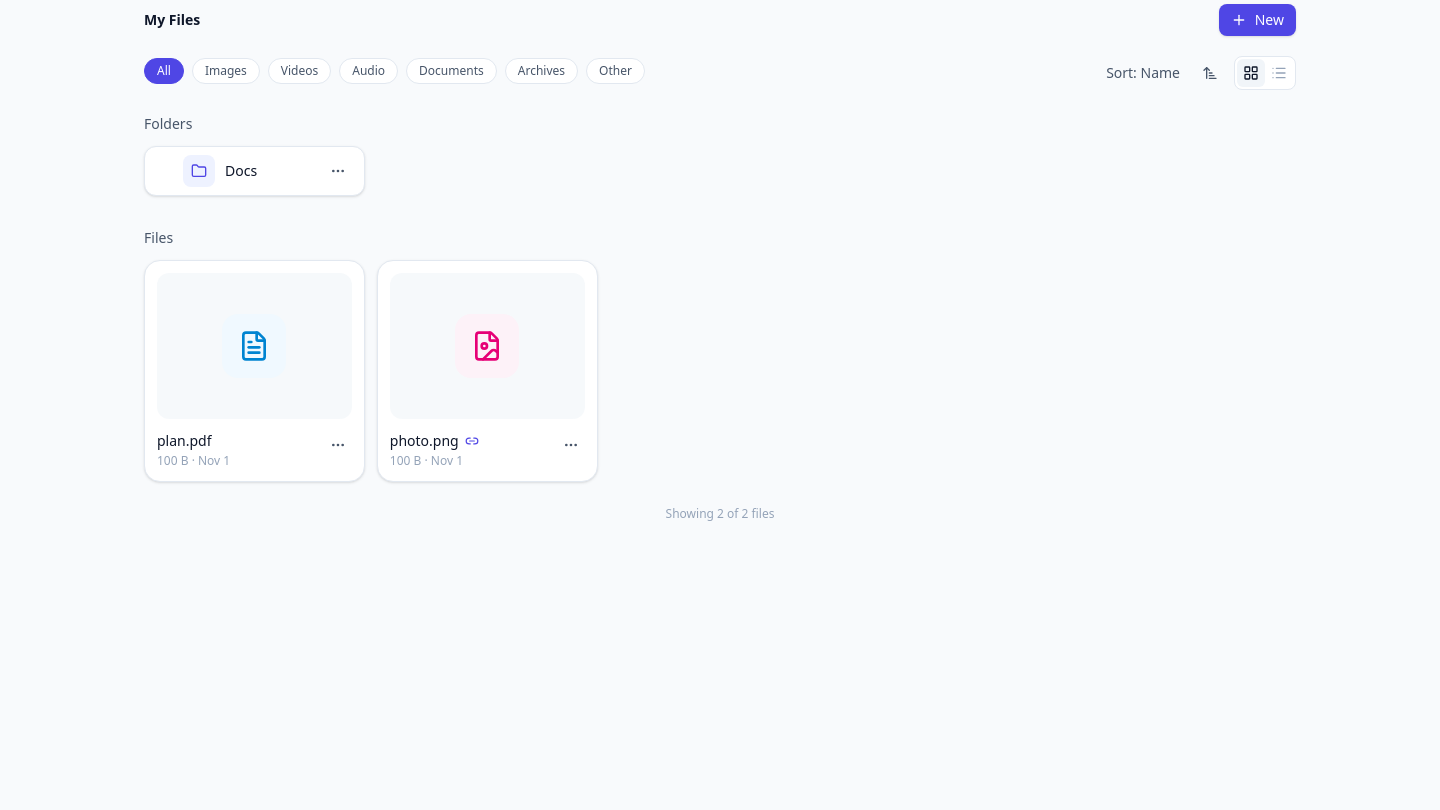
it: share dialog › creates a link with the chosen expiry and shows it once, ready to copy
The width and height of the screenshot is (1440, 810).
Check: the button "plan.pdf" is shown, box [157, 431, 212, 451]
Click the button named "Actions for plan.pdf" at (338,445), box [324, 431, 352, 459]
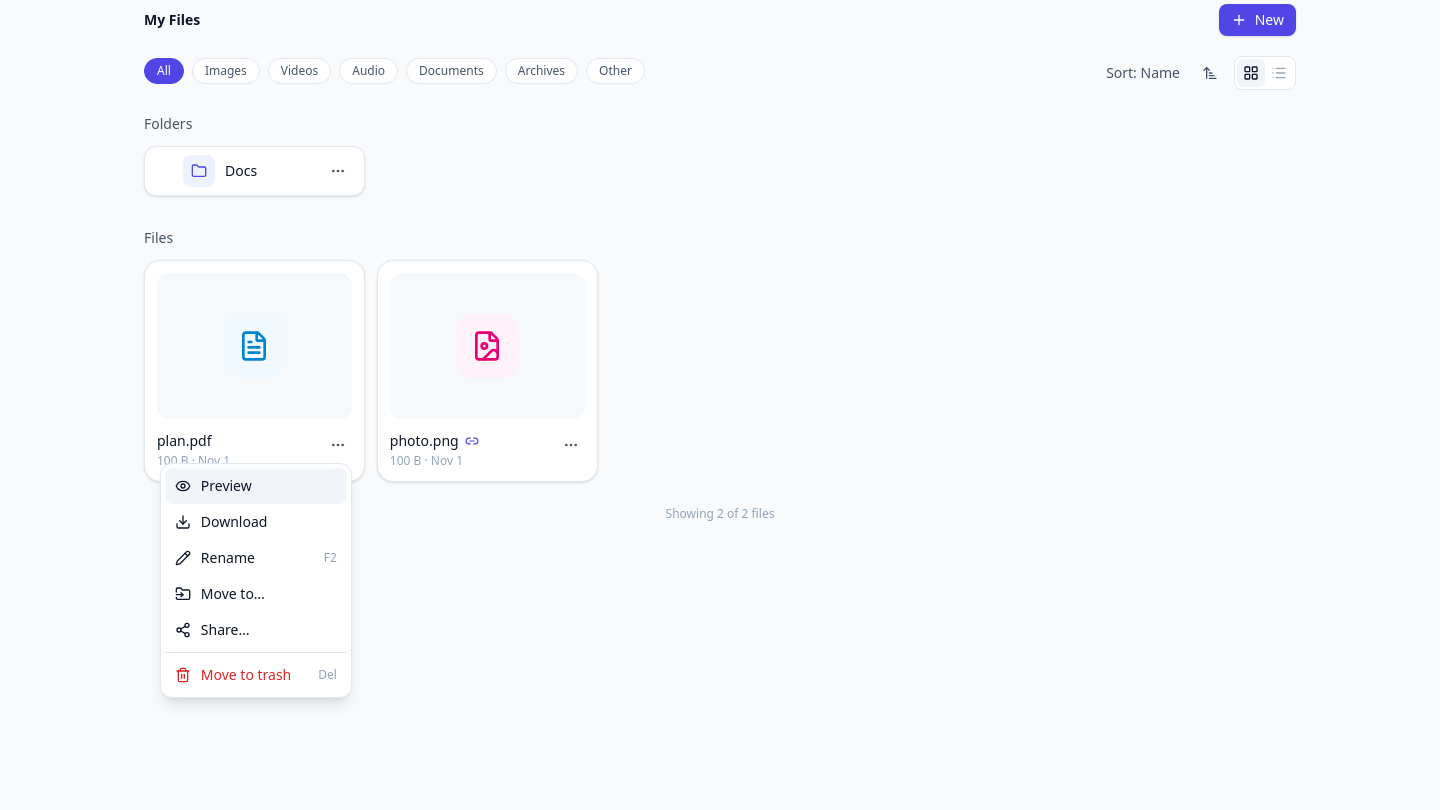
Click the menu item "Share…" at (256,630), box [165, 612, 347, 648]
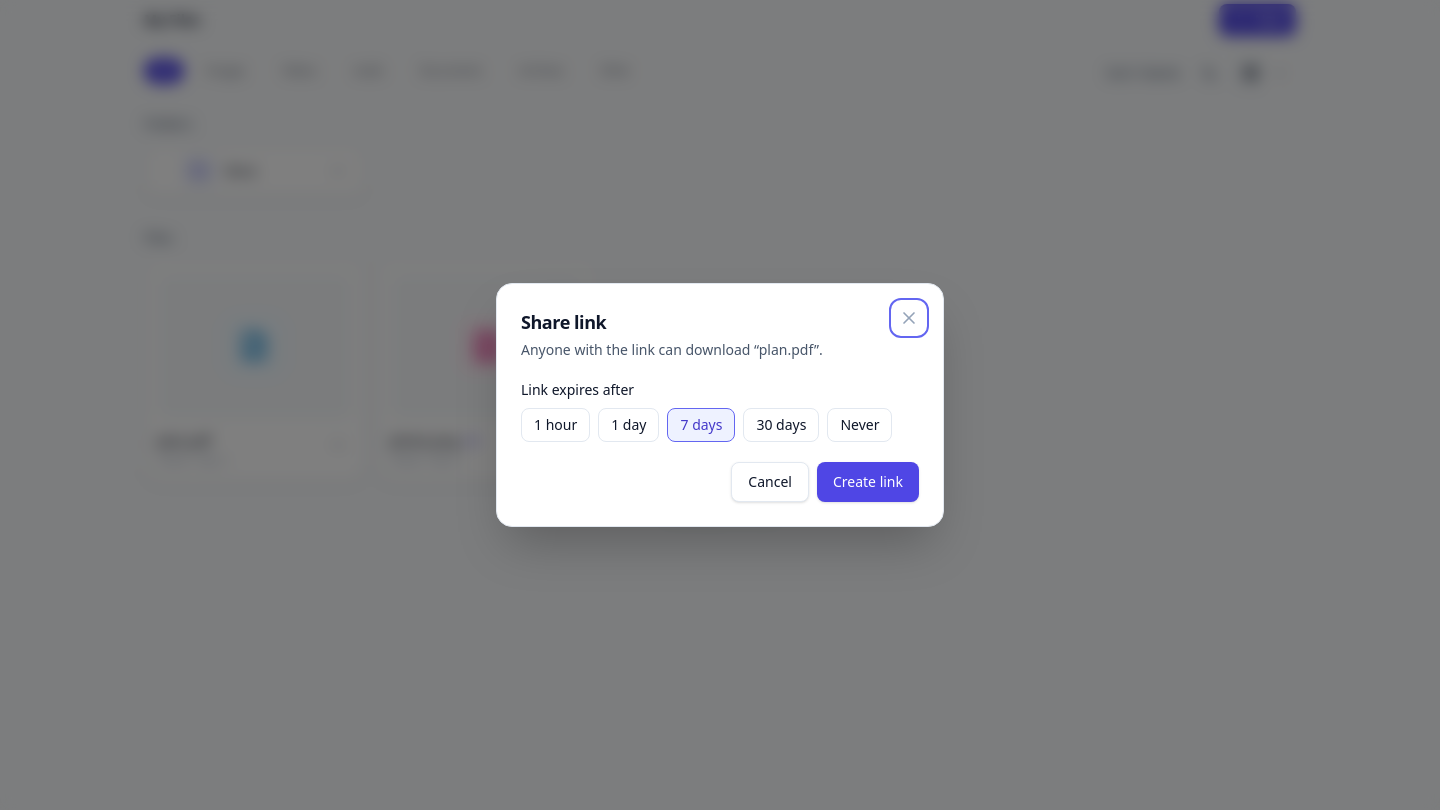
Check: the radio button labelled "7 days" is checked, box [668, 408, 736, 442]
Click the radio button labelled "1 day" at (629,425), box [598, 408, 660, 442]
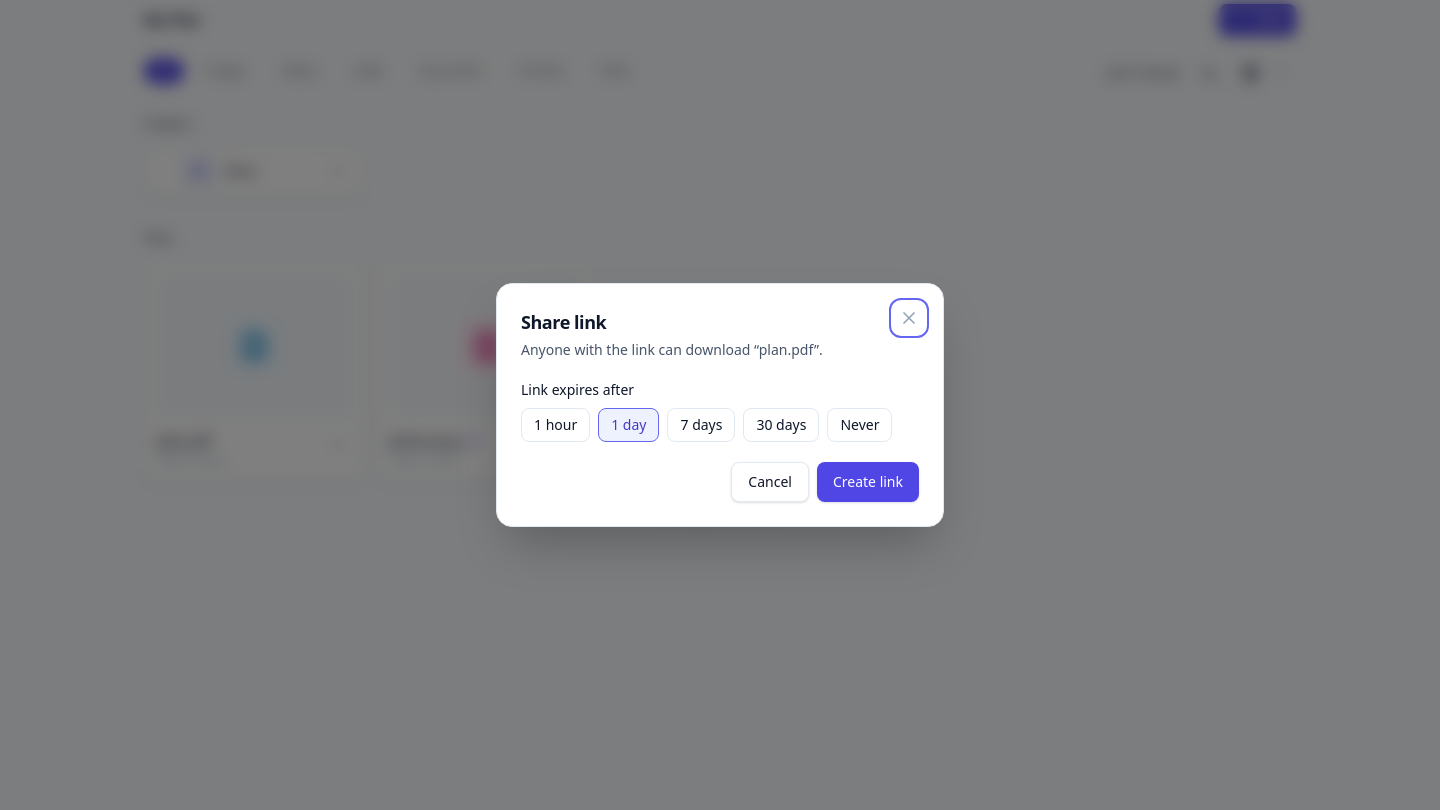
Click the button "Create link" at (868,482), box [817, 462, 919, 502]
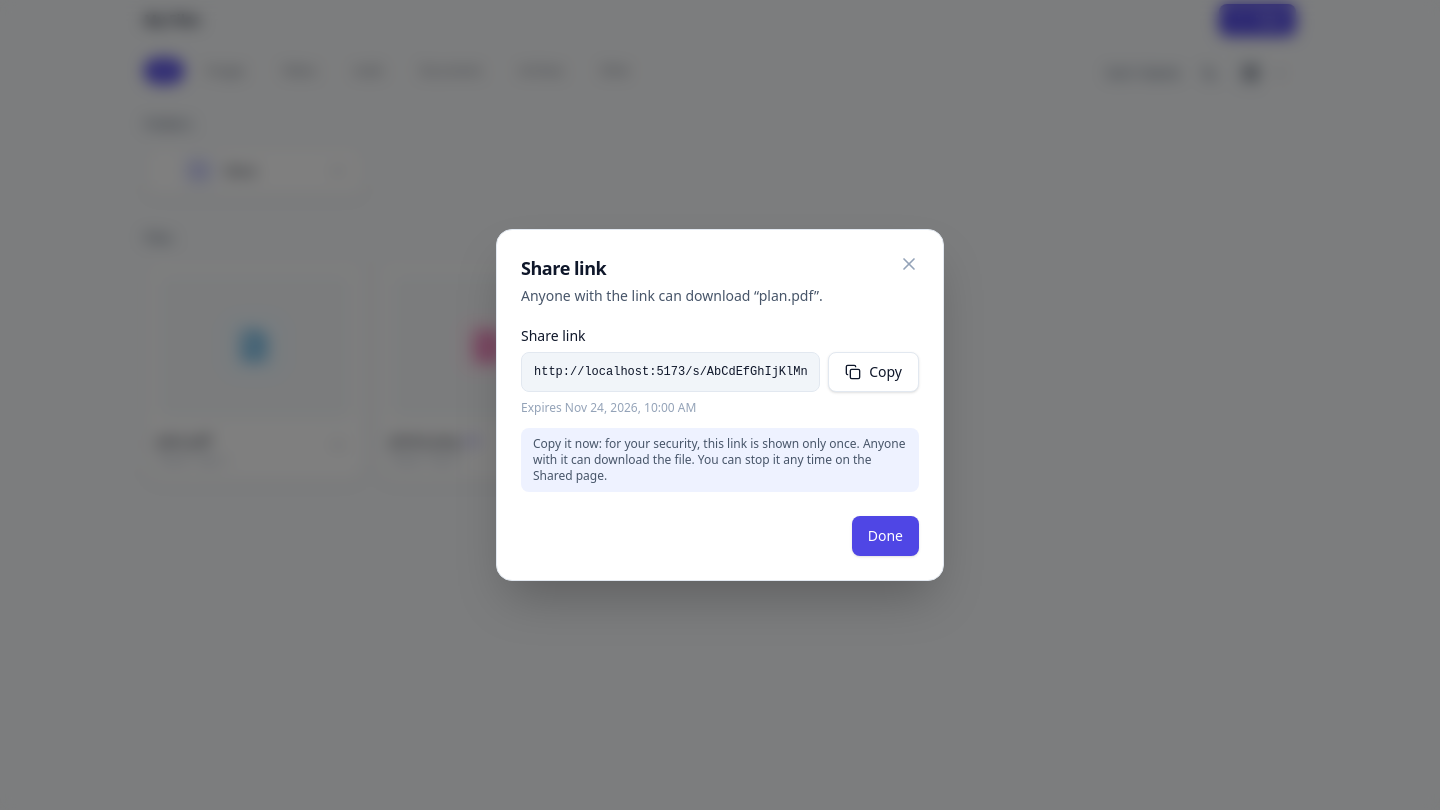
Check: the field labelled "Share link" holds "http://localhost:5173/s/AbCdEfGhIjKlMnOpQrStUvWxYz0123456789_-abcde", box [521, 352, 820, 392]
Check: the text "shown only once" is shown, box [533, 435, 906, 484]
Check: the text "Expires Nov 24, 2026, 10:00 AM" is shown, box [521, 399, 696, 416]
Click the button "Copy" at (874,372), box [828, 352, 919, 392]
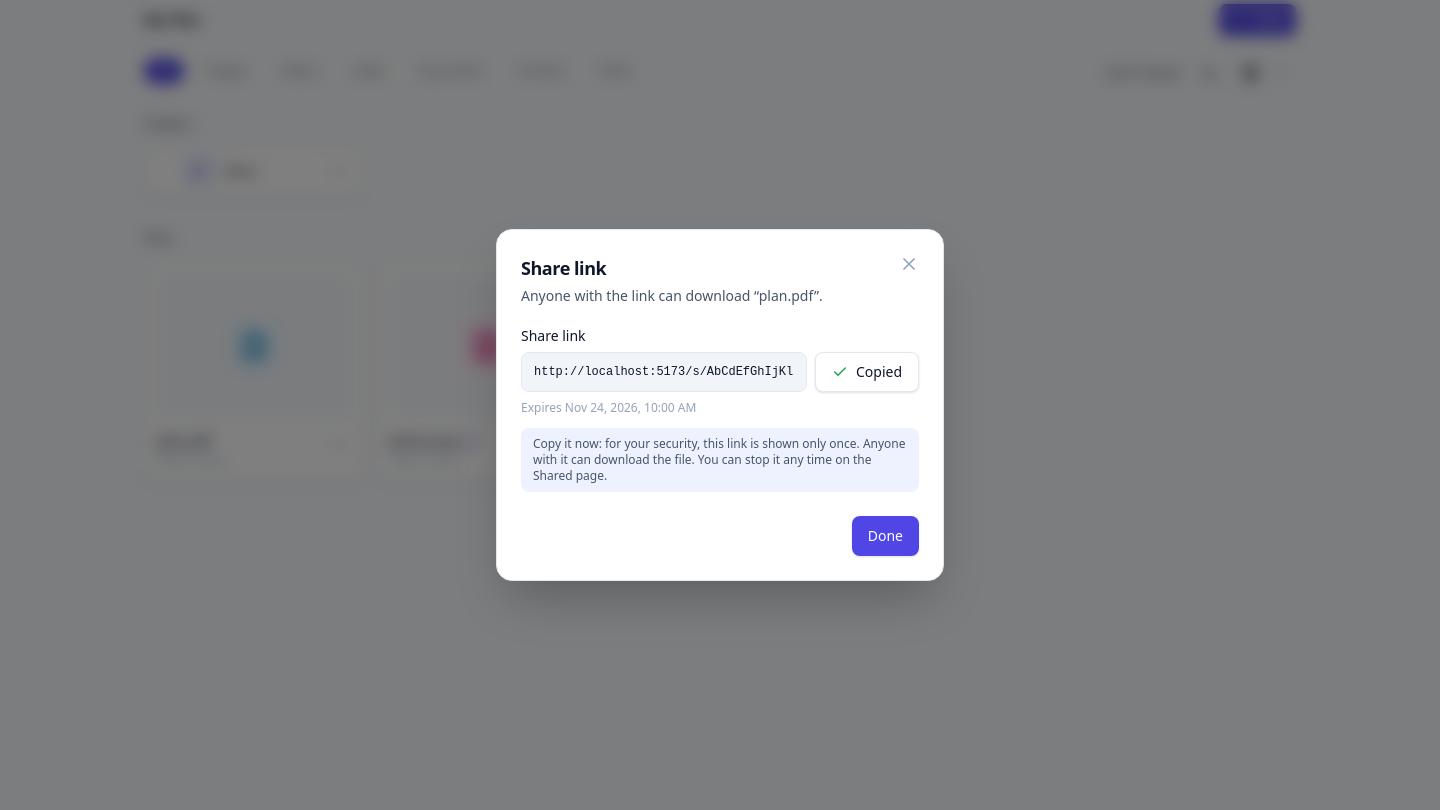
Check: the button "Copied" is shown, box [815, 352, 919, 392]
Click the button "Done" at (885,536), box [852, 516, 919, 556]
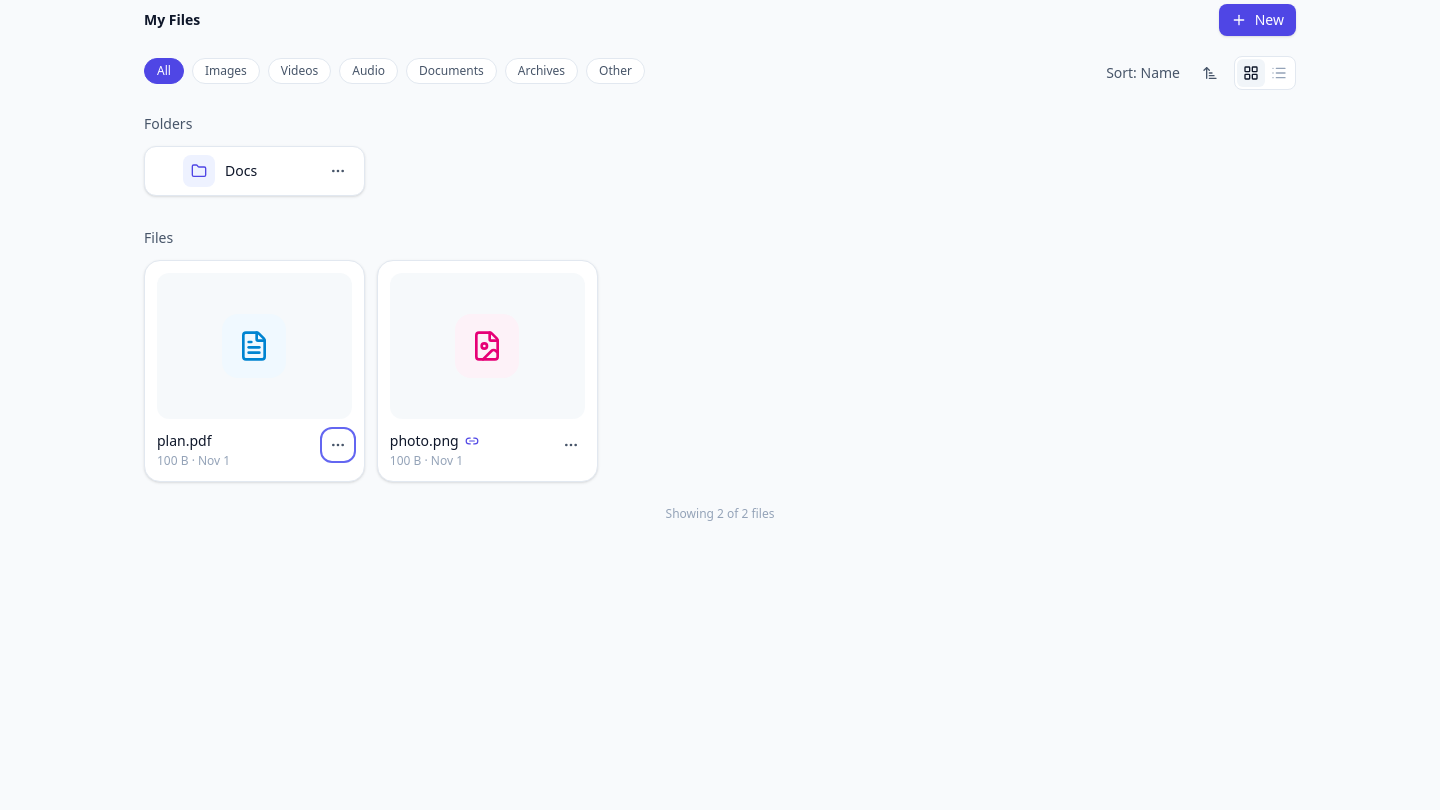
Check: the heading "Share link" is gone
